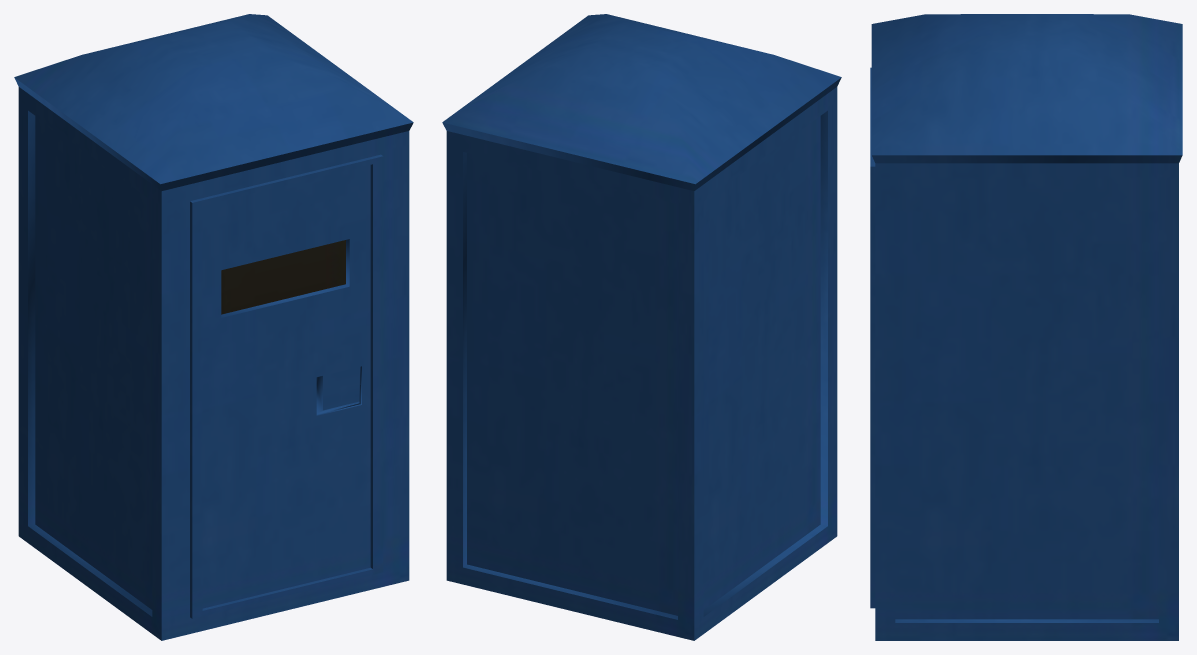
File: wc_chantier.glb
The picture shows the model from 3 angles, left to right: view 1: azimuth 30°, elevation 25°; view 2: azimuth 150°, elevation 25°; view 3: azimuth 270°, elevation 25°; orthographic projection. The views are drawn at different scales.
Parts seen in each view (by area): view 1: Toilet; view 2: Toilet; view 3: Toilet.
Boxes of the visible parts, left/top/right/bottom form: Toilet: left=14, top=14, right=413, bottom=640; Toilet: left=442, top=14, right=841, bottom=640; Toilet: left=870, top=14, right=1182, bottom=640.
Size of the model in its own units: 1.06 by 2.04 by 1.06.
1 material, 1 textured.
